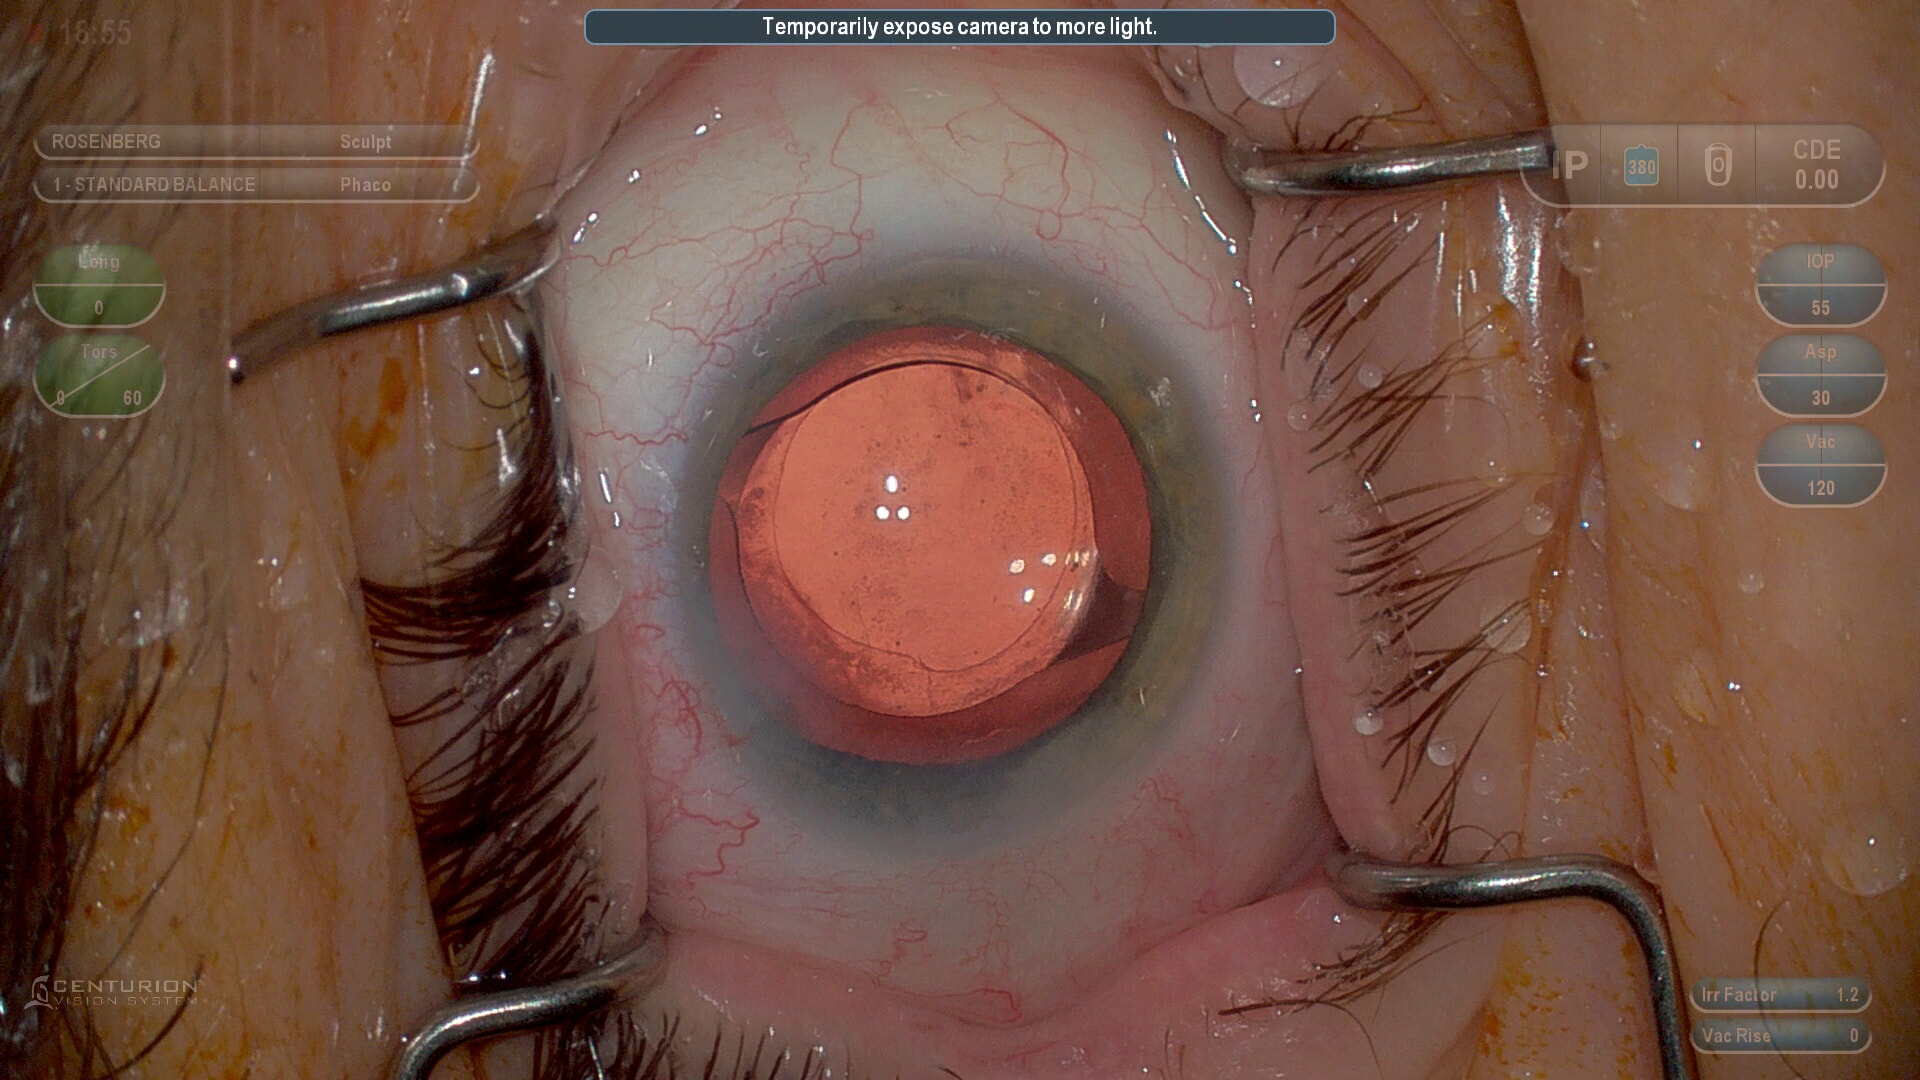iris: (688, 261, 1225, 829)
pupil: (720, 324, 1164, 772)
